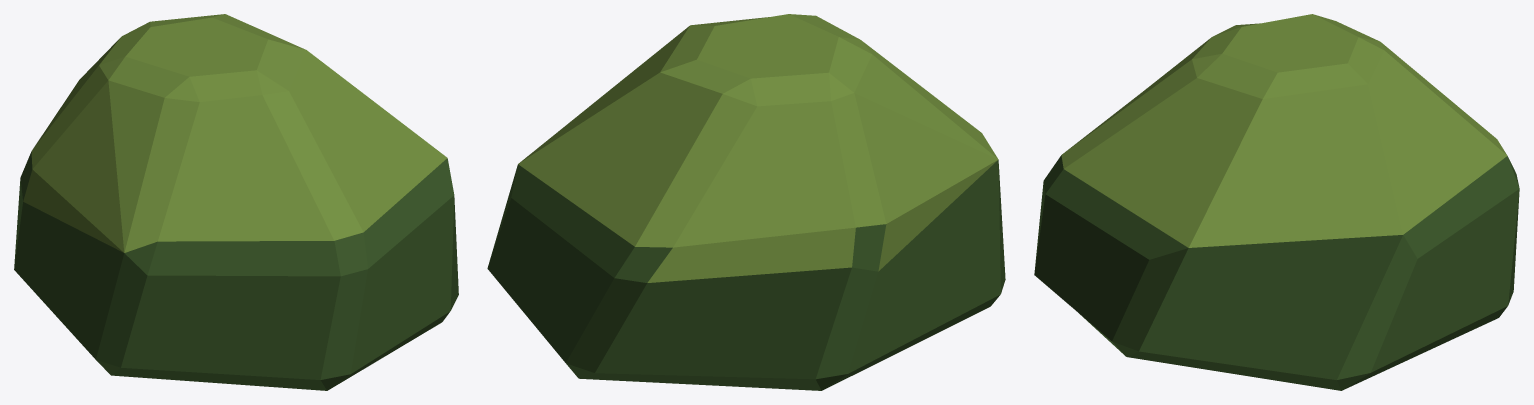
File: gf_stone_hero_b.glb
3 renders of one model, left to right at view 1: azimuth 30°, elevation 25°; view 2: azimuth 150°, elevation 25°; view 3: azimuth 270°, elevation 25°, orthographic. The views are drawn at different scales.
Parts seen in each view (by area): view 1: gf_stone_hero_b; view 2: gf_stone_hero_b; view 3: gf_stone_hero_b.
Part boxes in pixels (<box>): gf_stone_hero_b: <box>14,14,458,390</box>; gf_stone_hero_b: <box>487,14,1005,390</box>; gf_stone_hero_b: <box>1034,14,1519,390</box>.
Bounding box in the file's own units: 0.2904 × 0.175 × 0.3214.
